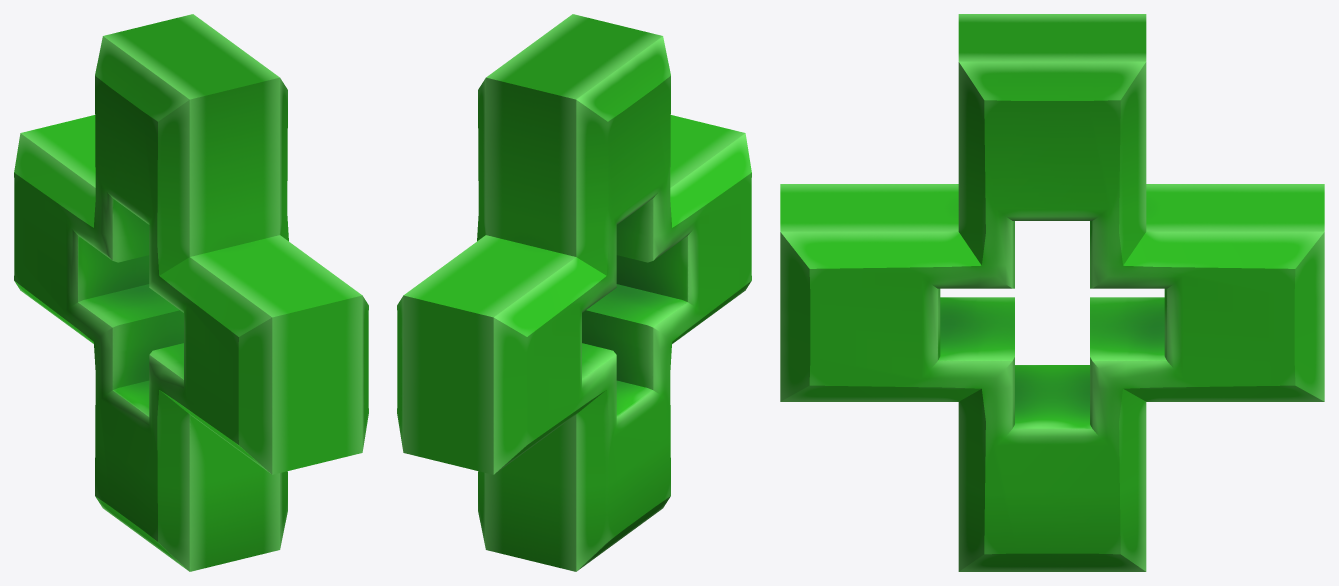
Rendered from heal_pickup.glb.
The picture shows the model from 3 angles, left to right: view 1: azimuth 30°, elevation 25°; view 2: azimuth 150°, elevation 25°; view 3: azimuth 270°, elevation 25°; orthographic projection. The views are drawn at different scales.
Parts seen in each view (by area): view 1: Cube; view 2: Cube; view 3: Cube.
Boxes of the visible parts, x1,y1,x2,y2 form: Cube: (14, 14, 368, 571); Cube: (397, 14, 751, 571); Cube: (780, 14, 1324, 571).
Size of the model in its own units: 0.3456 by 1.2 by 1.16.
1 material, 1 textured.
